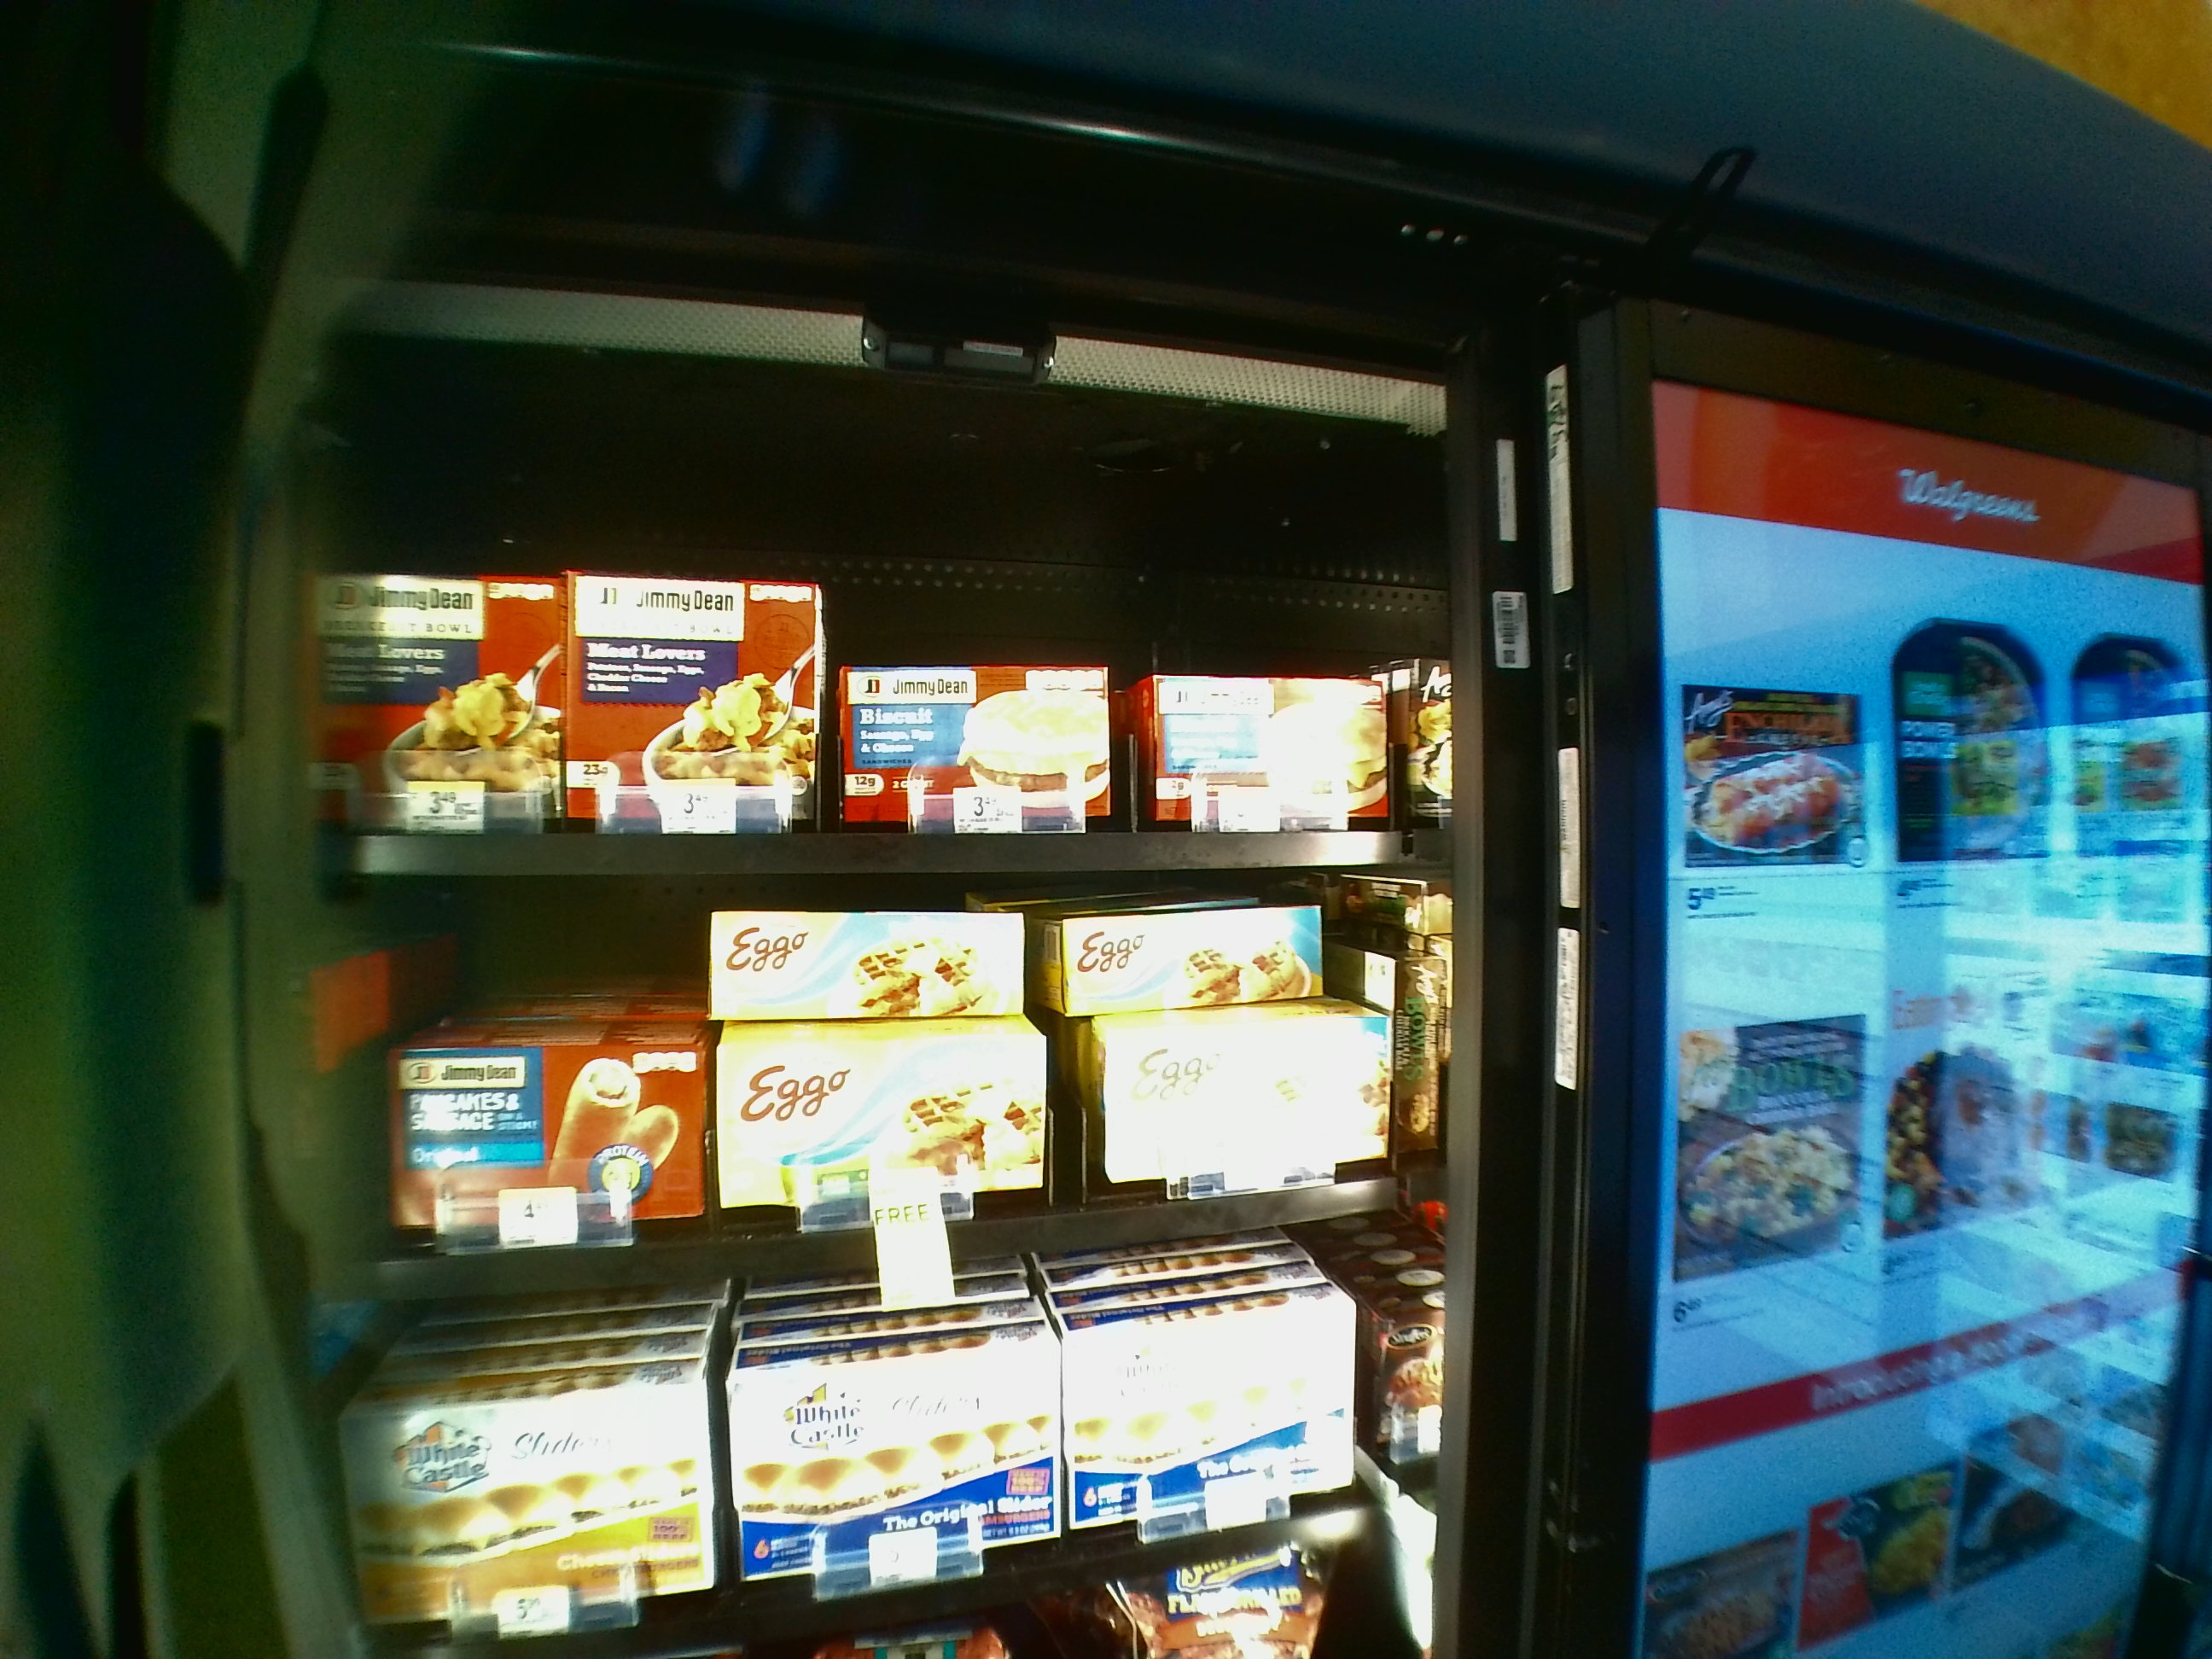shelf: (294, 427, 1439, 871), (291, 884, 1435, 1319)
